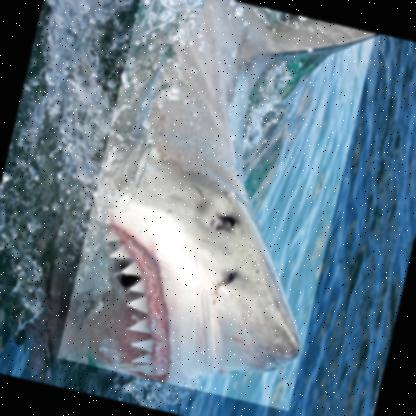white-shark: (55, 0, 375, 412)
